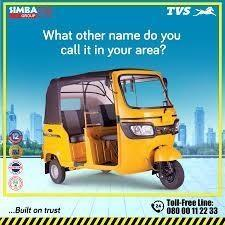keke: (41, 68, 184, 192)
